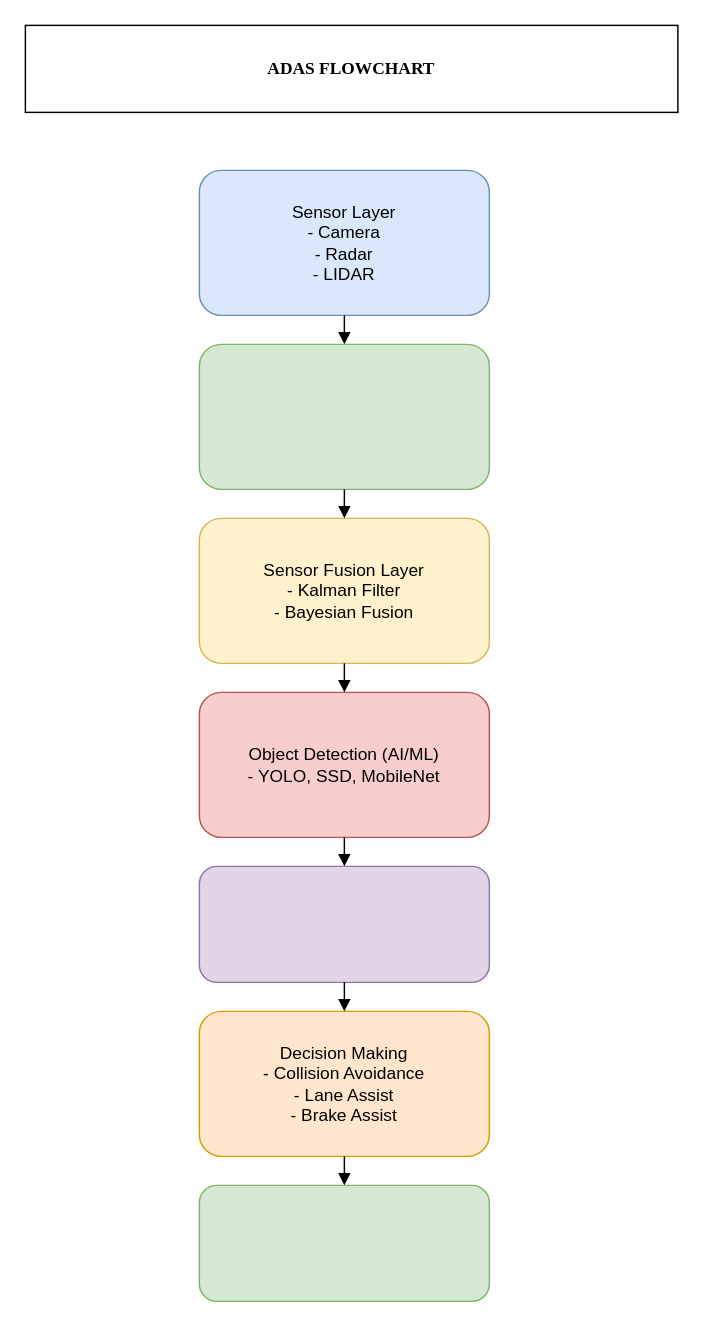
This 703x1327 diagram has some shape labels left out. Each missing label, with the centre of its shape:
Data Preprocessing - Calibration - Filtering - Timestamp Sync: the point at 343,416
Obstacle Detection & Prediction: the point at 343,923
Vehicle Control Outputs - Steering - Braking - Alerts: the point at 343,1242
